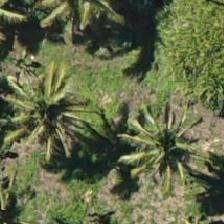coconut_tree: (123, 109, 213, 199), (5, 57, 95, 147), (56, 0, 146, 47)
